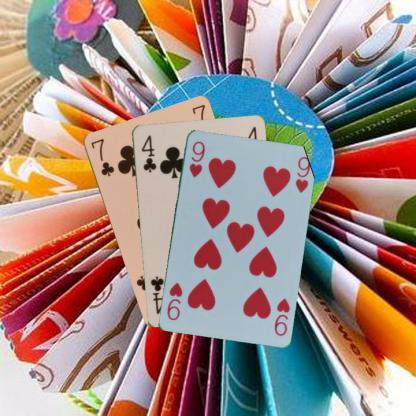4c: (139, 132, 158, 174)
7c: (88, 136, 115, 178)
9h: (271, 295, 291, 337), (186, 138, 206, 179)
